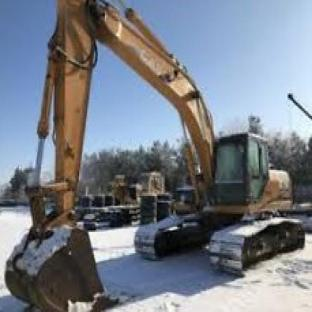ExcavationMachinery: (29, 3, 307, 304)
